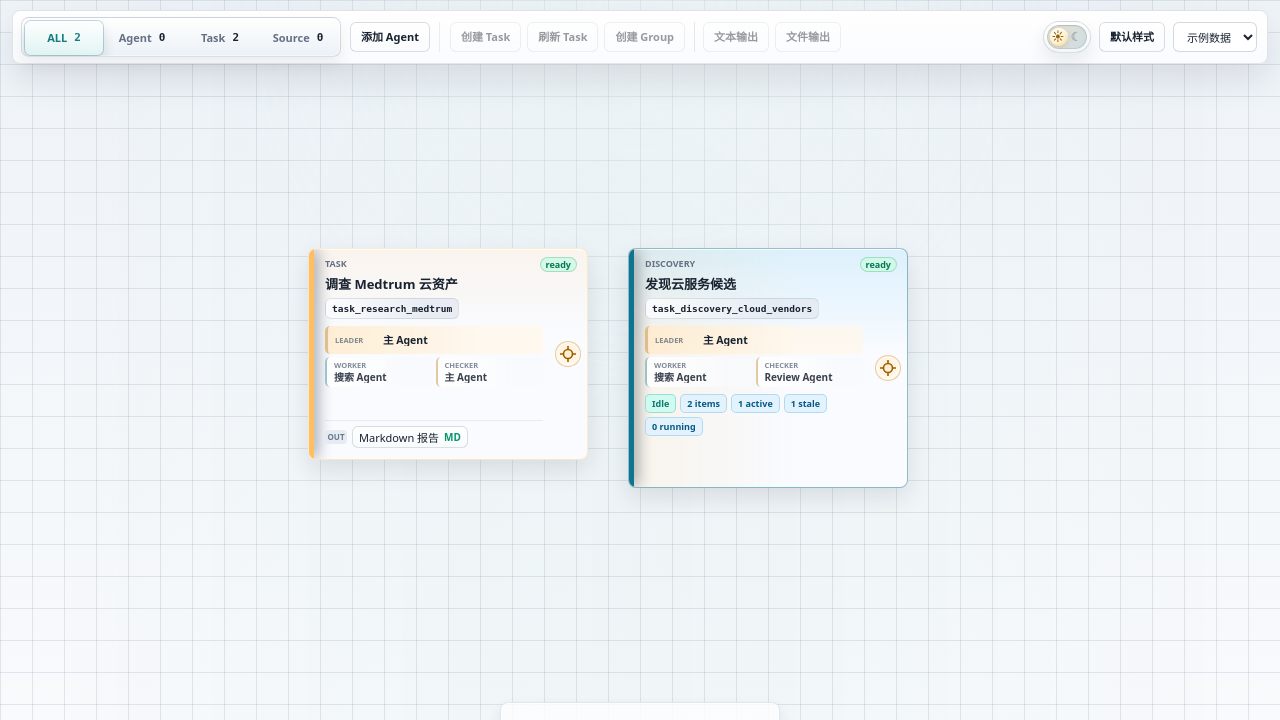
Scenario: App › live data › keeps Live API usable when the typed connection endpoint is not deployed yet
The width and height of the screenshot is (1280, 720).
Select "实时 API" in the dropdown: coordinates (1215, 37) [1173,22,1257,52]
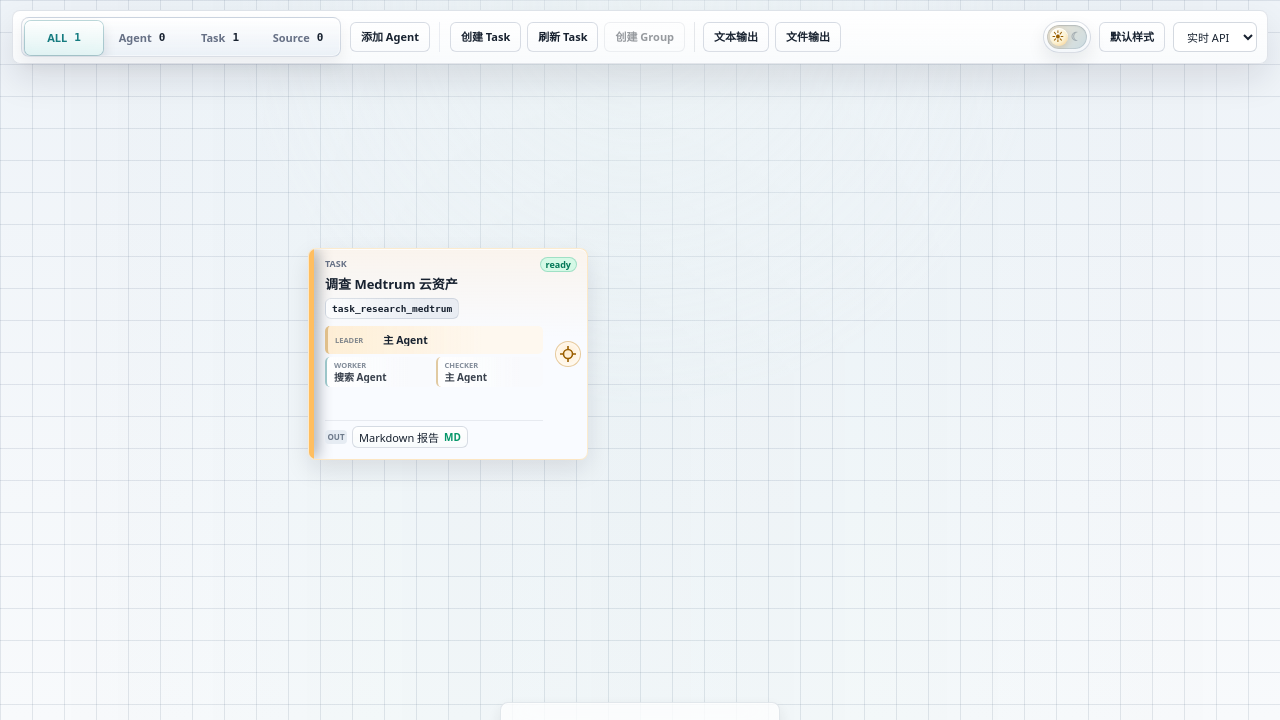
Expected: the text "调查 Medtrum 云资产" is shown, [325,275,458,293]
Expected: the button with class "task-create-btn" is enabled, [450,22,521,52]
